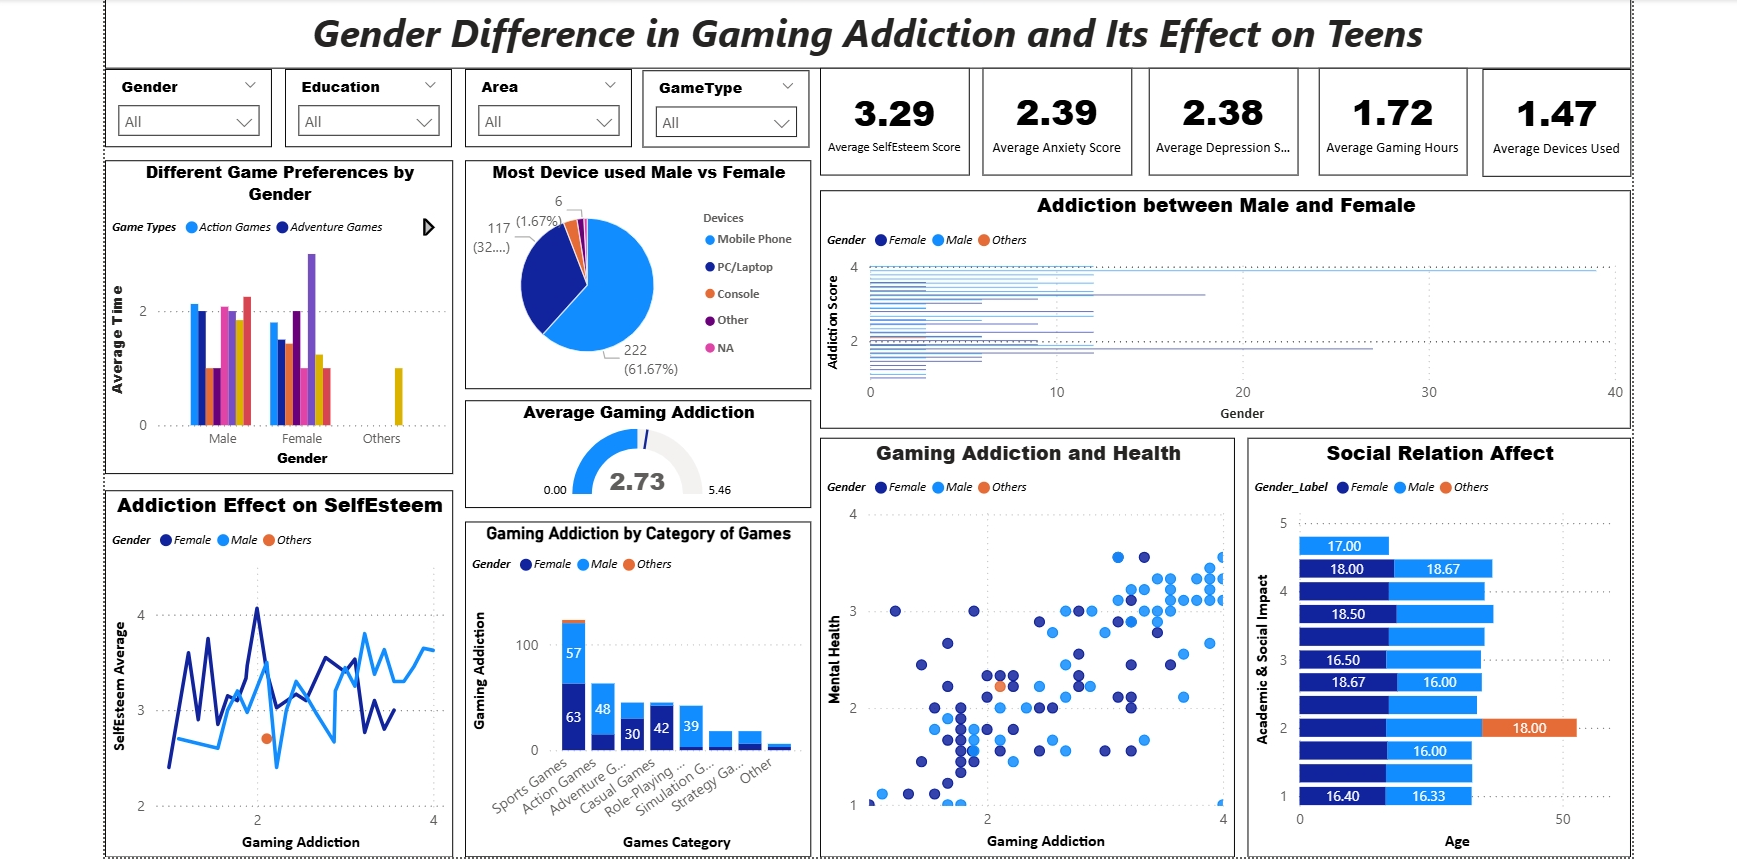

This screenshot's page, from the dashboard's own definition file:
{"tool":"powerbi","page":{"name":"Page 1","canvas":[1280,720],"ordinal":0},"visuals":[{"type":"clusteredColumnChart","title":"Different Game Preferences by Gender","fields":{"Category":["Final_GamingAddiction_Data.Gender_Label"],"Series":["Final_GamingAddiction_Data.GameType_Label"],"Y":["Avg(Final_GamingAddiction_Data.GI09)"]},"box":[0,135,291.7,263.3],"z":0},{"type":"pieChart","title":"Most Device used Male vs Female","fields":{"Y":["CountNonNull(Final_GamingAddiction_Data.Gender_Label)"],"Category":["Final_GamingAddiction_Data.Device_Label"]},"box":[301.7,135,290,191.7],"z":1000},{"type":"clusteredBarChart","title":"Addiction between Male and Female","fields":{"Y":["CountNonNull(Final_GamingAddiction_Data.Gender_Label)"],"Category":["Final_GamingAddiction_Data.GamingAddiction"],"Series":["Final_GamingAddiction_Data.Gender_Label"]},"box":[600,160,680,200],"z":2000},{"type":"scatterChart","title":"Gaming Addiction and Health","fields":{"X":["Final_GamingAddiction_Data.GamingAddiction"],"Y":["Final_GamingAddiction_Data.GeneralHealth"],"Series":["Final_GamingAddiction_Data.Gender_Label"]},"box":[600,368.3,348.3,351.7],"z":3000},{"type":"columnChart","title":"Gaming Addiction by Category of Games","fields":{"Category":["Final_GamingAddiction_Data.GameType_Label"],"Y":["CountNonNull(Final_GamingAddiction_Data.GamingAddiction)"],"Series":["Final_GamingAddiction_Data.Gender_Label"]},"box":[301.7,438.3,290,281.7],"z":4000},{"type":"lineChart","title":"Addiction Effect on SelfEsteem","fields":{"Category":["Final_GamingAddiction_Data.GamingAddiction"],"Y":["Avg(Final_GamingAddiction_Data.SelfEsteem)"],"Series":["Final_GamingAddiction_Data.Gender_Label"]},"box":[0,411.7,291.7,308.3],"z":5000},{"type":"barChart","title":"Social Relation Affect","fields":{"Series":["Final_GamingAddiction_Data.Gender_Label"],"Y":["Avg(Final_GamingAddiction_Data.GI01)"],"Category":["Final_GamingAddiction_Data.Academic_Social_Impact"]},"box":[958.3,368.3,321.7,351.7],"z":6000},{"type":"gauge","title":"Average Gaming Addiction","fields":{"Y":["Avg(Final_GamingAddiction_Data.GamingAddiction)"]},"box":[301.7,336.7,290,90],"z":7000},{"type":"textbox","box":[0,0,1280,58.3],"z":9000},{"type":"slicer","fields":{"Values":["Final_GamingAddiction_Data.Gender_Label"]},"box":[0,58.6,140,65.7],"z":10000},{"type":"card","fields":{"Values":["Avg(Final_GamingAddiction_Data.SelfEsteem)"]},"box":[600,57.8,125.6,90],"z":11000},{"type":"card","fields":{"Values":["Avg(Final_GamingAddiction_Data.GeneralHealth)"]},"box":[875.6,57.8,125.6,90],"z":12000},{"type":"card","fields":{"Values":["Avg(Final_GamingAddiction_Data.GI09)"]},"box":[1017.8,57.8,124.4,90],"z":13000},{"type":"card","fields":{"Values":["Avg(Final_GamingAddiction_Data.MentalHealth)"]},"box":[735.6,57.8,125.6,90],"z":14000},{"type":"card","fields":{"Values":["Avg(Final_GamingAddiction_Data.Devices_Count)"]},"box":[1155,58.3,125,90],"z":15000},{"type":"slicer","fields":{"Values":["Final_GamingAddiction_Data.Education_Label"]},"box":[151.4,58.6,140,65.7],"z":16000},{"type":"slicer","fields":{"Values":["Final_GamingAddiction_Data.Area_Label"]},"box":[301.4,58.6,140,65.7],"z":17000},{"type":"slicer","fields":{"Values":["Final_GamingAddiction_Data.GameType_Label"]},"box":[451.1,60,140,64.4],"z":18000}]}

Visuals, with their boxes in screenshot pixels (x1, y1, x2, y2):
"Different Game Preferences by Gender" clusteredColumnChart: detection(109, 155, 454, 467)
"Most Device used Male vs Female" pieChart: detection(466, 155, 809, 382)
"Addiction between Male and Female" clusteredBarChart: detection(819, 185, 1623, 421)
"Gaming Addiction and Health" scatterChart: detection(819, 431, 1231, 848)
"Gaming Addiction by Category of Games" columnChart: detection(466, 514, 809, 848)
"Addiction Effect on SelfEsteem" lineChart: detection(109, 483, 454, 848)
"Social Relation Affect" barChart: detection(1243, 431, 1623, 848)
"Average Gaming Addiction" gauge: detection(466, 394, 809, 500)
textbox: detection(109, 0, 1623, 64)
slicer - Final_GamingAddiction_Data.Gender_Label: detection(109, 65, 274, 143)
card - Avg(Final_GamingAddiction_Data.SelfEsteem): detection(819, 64, 967, 170)
card - Avg(Final_GamingAddiction_Data.GeneralHealth): detection(1145, 64, 1293, 170)
card - Avg(Final_GamingAddiction_Data.GI09): detection(1313, 64, 1460, 170)
card - Avg(Final_GamingAddiction_Data.MentalHealth): detection(979, 64, 1128, 170)
card - Avg(Final_GamingAddiction_Data.Devices_Count): detection(1475, 64, 1623, 171)
slicer - Final_GamingAddiction_Data.Education_Label: detection(288, 65, 453, 143)
slicer - Final_GamingAddiction_Data.Area_Label: detection(465, 65, 631, 143)
slicer - Final_GamingAddiction_Data.GameType_Label: detection(642, 66, 808, 143)
